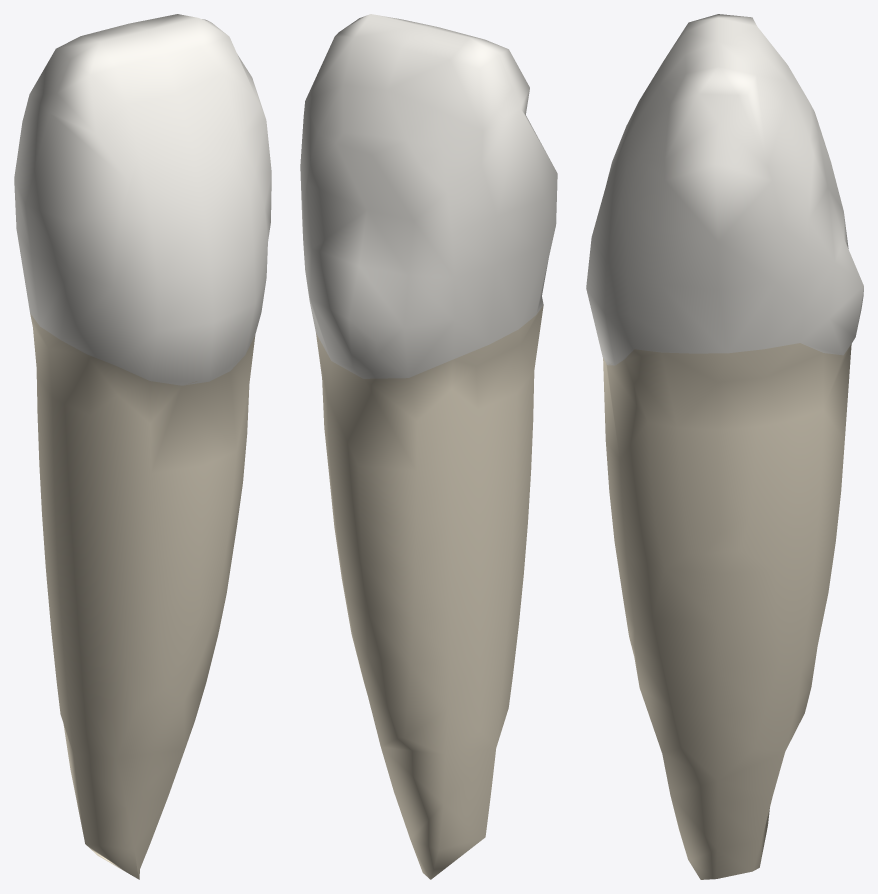
3 views of the same model, side by side, from view 1: azimuth 30°, elevation 25°; view 2: azimuth 150°, elevation 25°; view 3: azimuth 270°, elevation 25° (orthographic).
Parts seen in each view (by area): view 1: root, V, I, D, M; view 2: root, L, I, D, M; view 3: root, M, I, L, V.
Part boxes in pixels (bbox=[...]): root: bbox=[30, 313, 255, 879]; V: bbox=[113, 138, 267, 385]; I: bbox=[29, 14, 259, 153]; D: bbox=[14, 94, 138, 365]; M: bbox=[239, 79, 271, 240]; root: bbox=[316, 305, 543, 879]; L: bbox=[303, 132, 454, 378]; I: bbox=[305, 14, 529, 147]; D: bbox=[442, 88, 557, 359]; M: bbox=[300, 101, 317, 236]; root: bbox=[603, 343, 851, 879]; M: bbox=[626, 159, 809, 353]; I: bbox=[633, 14, 811, 167]; L: bbox=[800, 102, 863, 355]; V: bbox=[586, 102, 638, 365].
Size of the model in its own units: 3.9 by 13.4 by 3.98.
